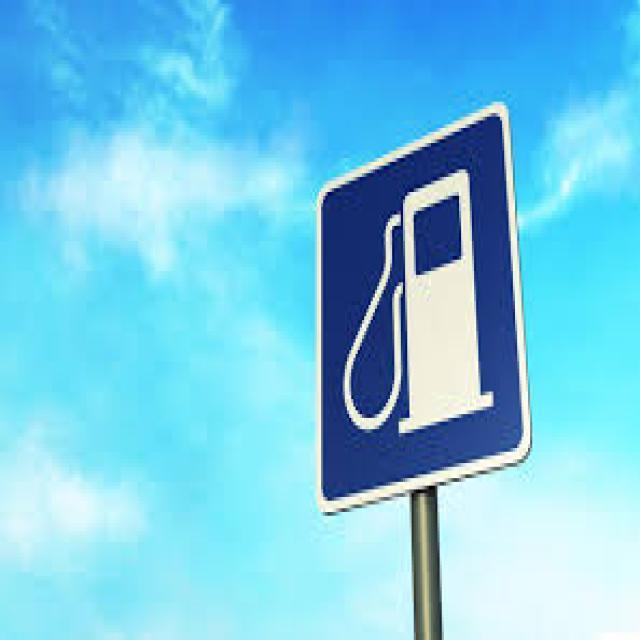petrol pump ahead: (307, 81, 551, 520)
